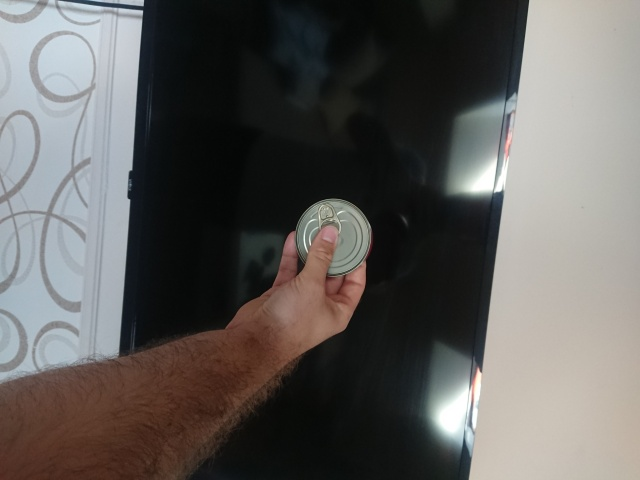Gavrilovic Pork Liver Pate 100g: (292, 195, 374, 280)
